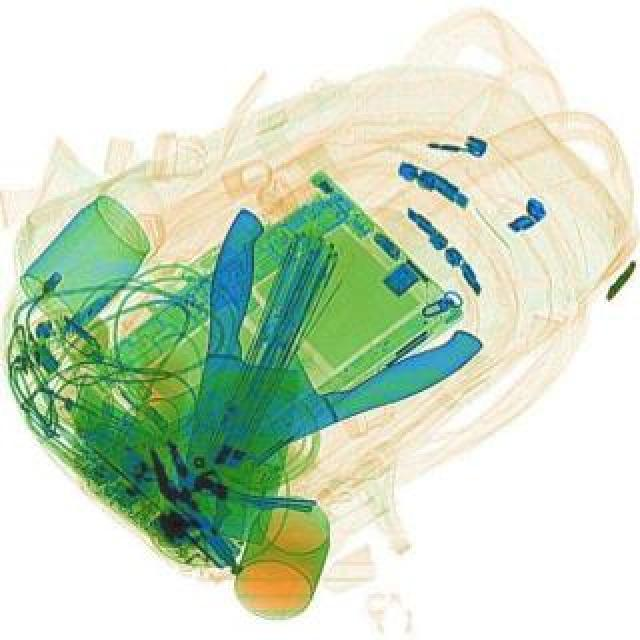knife: (90, 268, 490, 520), (170, 204, 326, 544)
